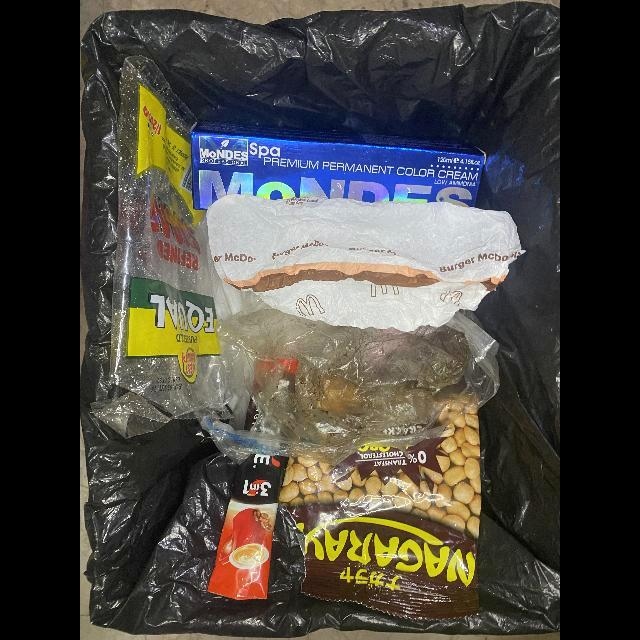cardboard: (190, 121, 486, 211)
food_wrapper: (86, 56, 249, 441), (279, 402, 482, 624), (207, 453, 289, 601), (254, 357, 299, 390)
paper: (204, 194, 524, 332)
plastic_bag: (207, 309, 500, 465)
